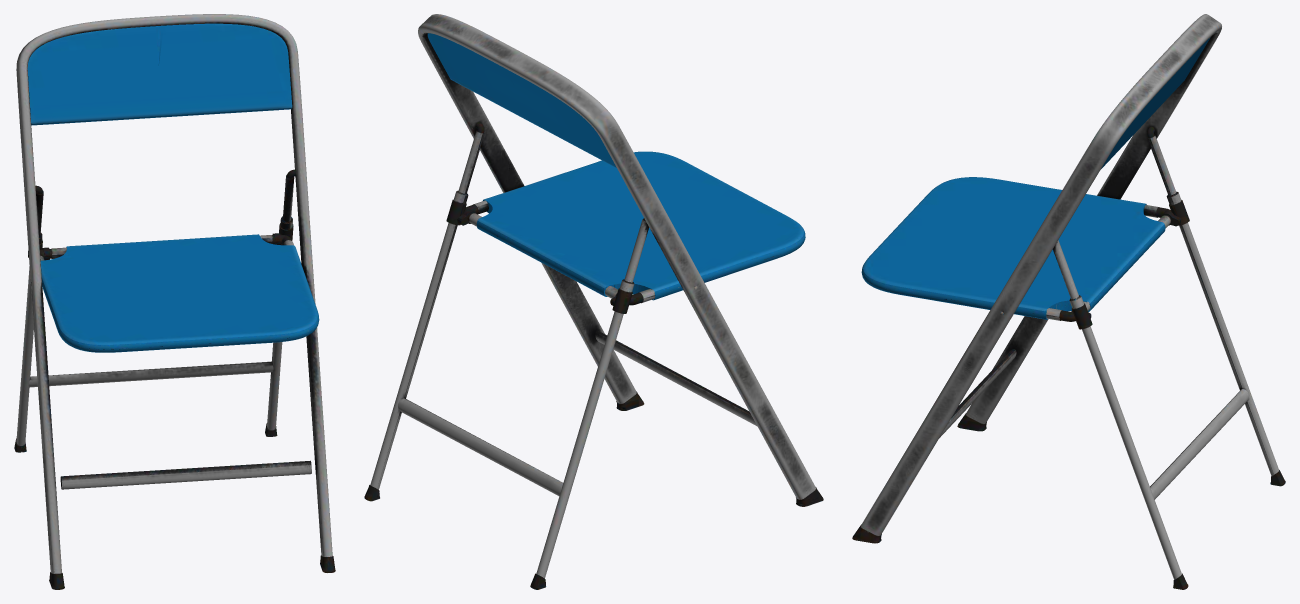
The model's file is chair.dae.
3 views of the same model, side by side, from view 1: azimuth 30°, elevation 25°; view 2: azimuth 150°, elevation 25°; view 3: azimuth 270°, elevation 25° (orthographic). The views are drawn at different scales.
Parts seen in each view (by area): view 1: APezzi1; view 2: APezzi1; view 3: APezzi1.
Part boxes in pixels (left/top/right/bottom): APezzi1: left=14, top=14, right=335, bottom=589; APezzi1: left=364, top=14, right=823, bottom=589; APezzi1: left=852, top=14, right=1285, bottom=589.
Bounding box in the file's own units: 675 × 740 × 888.
1 material, 1 textured.
